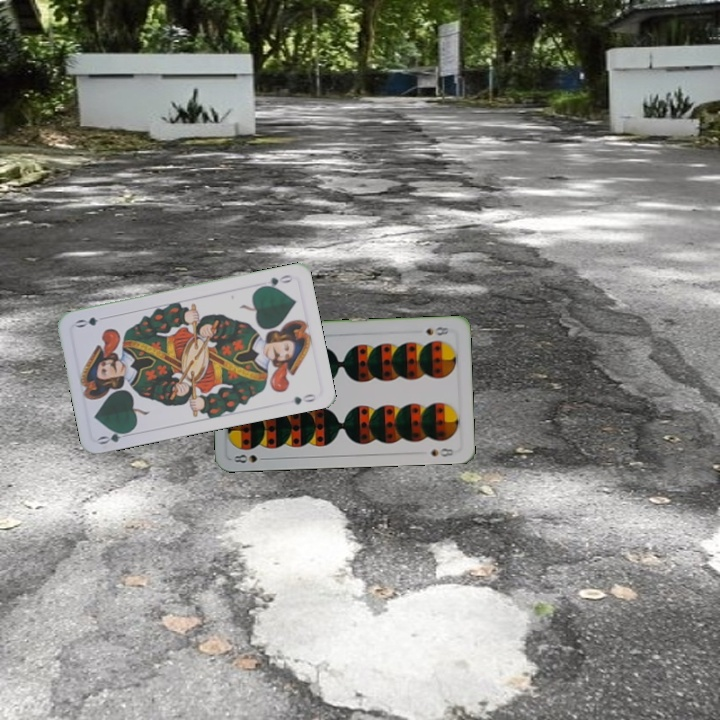GO: (94, 426, 135, 447), (256, 271, 296, 291)
S8: (230, 451, 270, 466), (422, 323, 451, 338)
